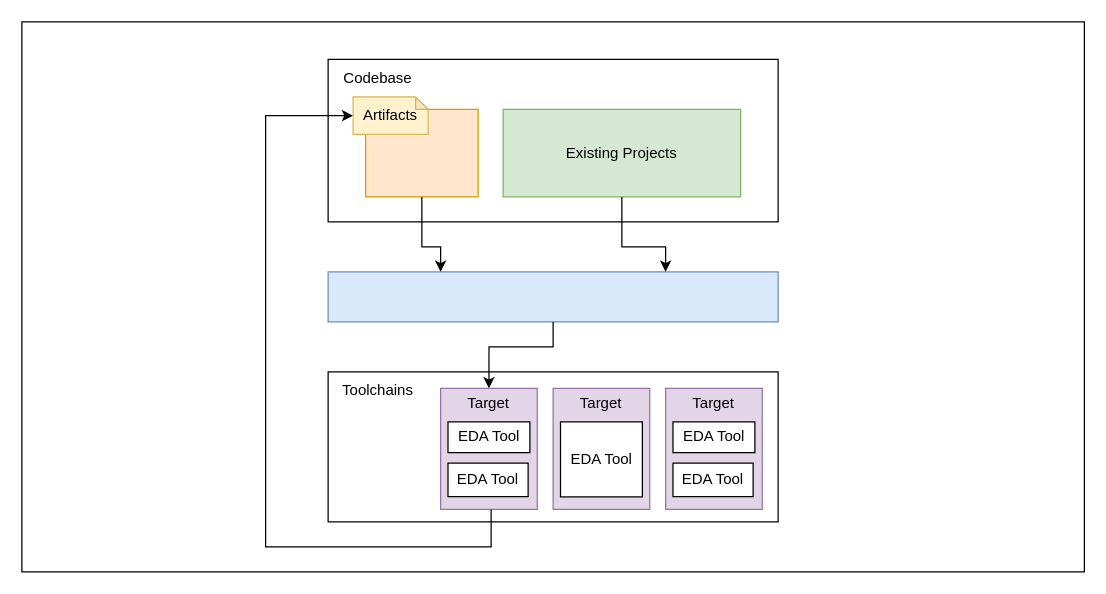
This 1106x594 diagram has some shape labels left out. The shapes that lost their labels are listed below. From the top down, each one's box as (x1, y1, x2, y2) in pixels, then its label:
(364, 108, 478, 197): Current Project
(327, 271, 778, 322): Orbit
